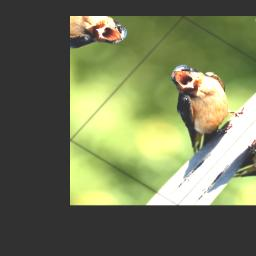Swallow: (131, 55, 256, 160)
